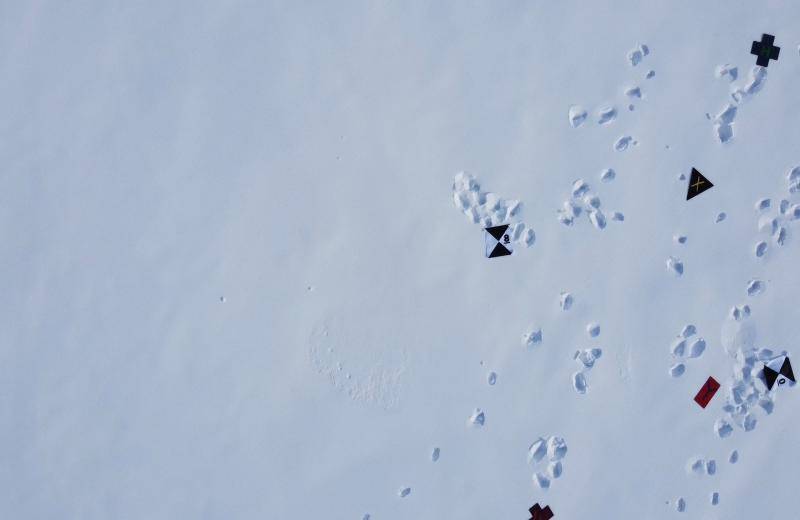Cross: (747, 29, 782, 70), (525, 501, 556, 520)
Rectangle: (692, 372, 721, 412)
Triangle: (683, 164, 716, 205)
